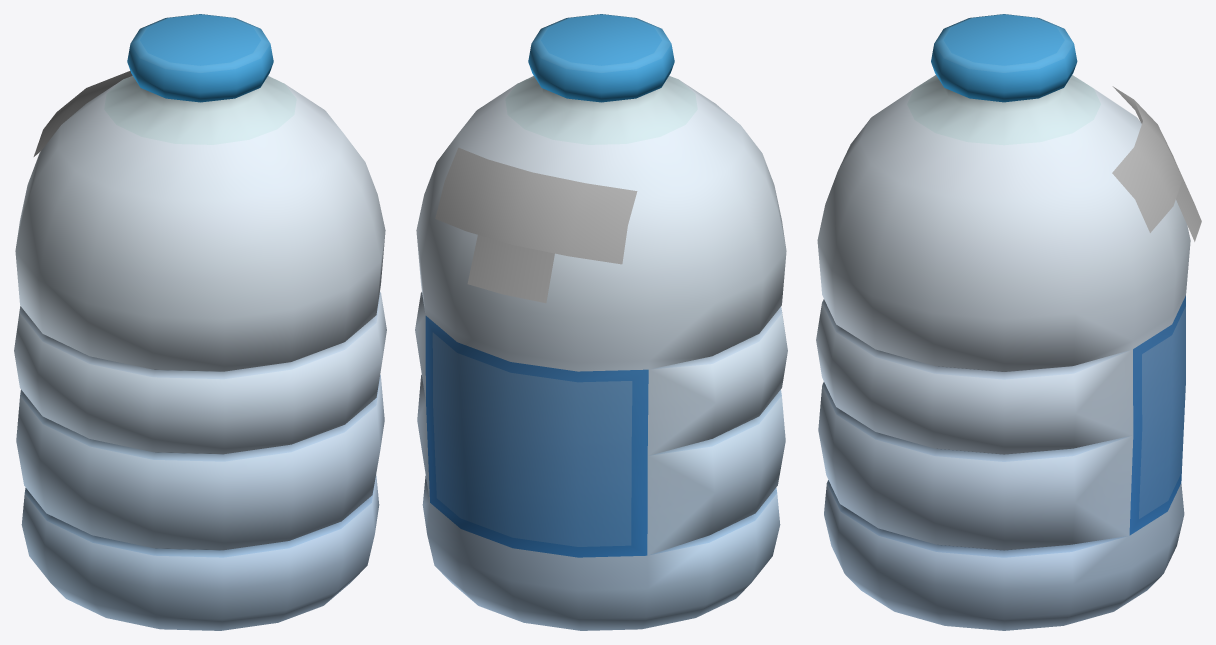
The model's file is milk_bottle_smile.fbx.
3 renders of one model, left to right at view 1: azimuth 30°, elevation 25°; view 2: azimuth 150°, elevation 25°; view 3: azimuth 270°, elevation 25°, orthographic.
Visible parts, largest first — view 1: milk_001, smile; view 2: milk_001, smile; view 3: milk_001, smile.
Part boxes in pixels (left/top/right/bottom): milk_001: left=14, top=14, right=386, bottom=630; smile: left=33, top=71, right=132, bottom=156; milk_001: left=415, top=14, right=787, bottom=630; smile: left=435, top=147, right=637, bottom=303; milk_001: left=816, top=14, right=1190, bottom=630; smile: left=1112, top=86, right=1201, bottom=241.
Size of the model in its own units: 90.19 by 142 by 92.51.
